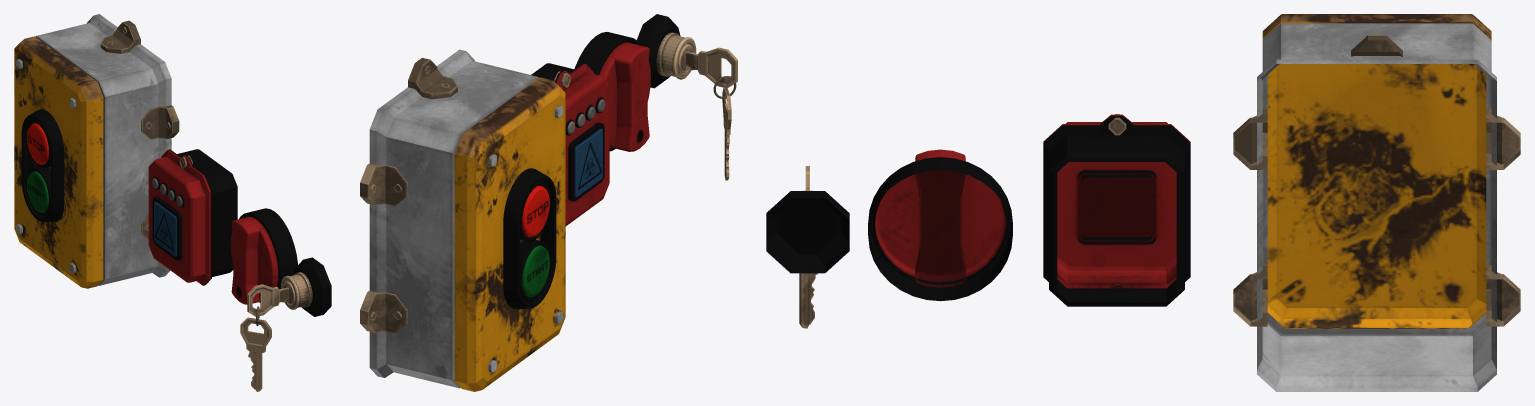
The model's file is industrial_switches_and_buttons_-_free_sample.glb.
3 renders of one model, left to right at view 1: azimuth 30°, elevation 25°; view 2: azimuth 150°, elevation 25°; view 3: azimuth 270°, elevation 25°, orthographic. The views are drawn at different scales.
Visible parts, largest first — view 1: Button_01.002_3, Button_05.002_0, Switch_rotary.002_1, Keys_lock.002_2; view 2: Button_01.002_3, Button_05.002_0, Switch_rotary.002_1, Keys_lock.002_2; view 3: Button_01.002_3, Button_05.002_0, Switch_rotary.002_1, Keys_lock.002_2.
Part boxes in pixels (left/top/right/bottom): Button_01.002_3: left=14, top=14, right=179, bottom=288; Button_05.002_0: left=148, top=149, right=237, bottom=285; Switch_rotary.002_1: left=230, top=208, right=297, bottom=304; Keys_lock.002_2: left=240, top=257, right=331, bottom=391; Button_01.002_3: left=360, top=49, right=565, bottom=391; Button_05.002_0: left=531, top=63, right=609, bottom=226; Switch_rotary.002_1: left=574, top=32, right=650, bottom=151; Keys_lock.002_2: left=637, top=14, right=737, bottom=180; Button_01.002_3: left=1233, top=14, right=1520, bottom=391; Button_05.002_0: left=1043, top=114, right=1190, bottom=306; Switch_rotary.002_1: left=868, top=149, right=1012, bottom=301; Keys_lock.002_2: left=766, top=166, right=849, bottom=328.
Size of the model in its own units: 0.1229 by 0.281 by 0.5463.
Materials: 1 (1 with a texture image).
